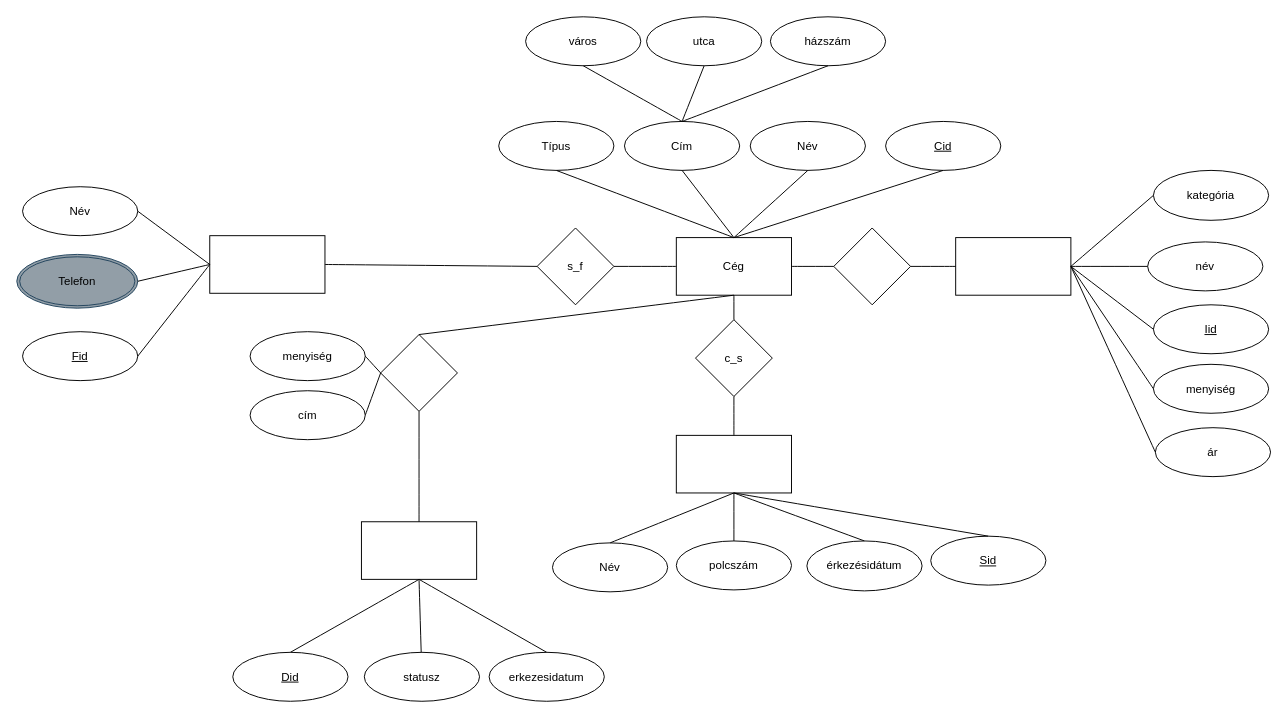
Image size: 1287x718. Some labels were removed from this diagram. Here are the shapes that lost their labels. From the top down, the centre of each, then its label:
point 267,264: Főfelügyelő
point 872,266: s_i
point 1013,266: Termék
point 418,372: Rendelés
point 733,463: Tár
point 418,550: Szállítás
